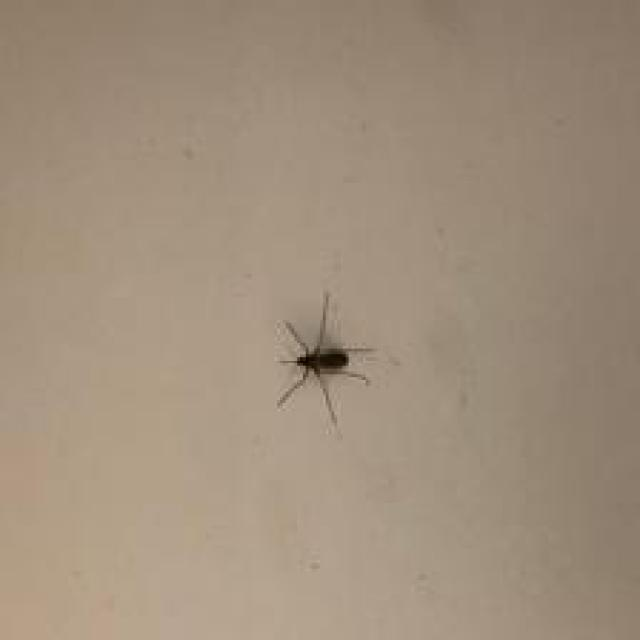Culex: (273, 290, 378, 430)
